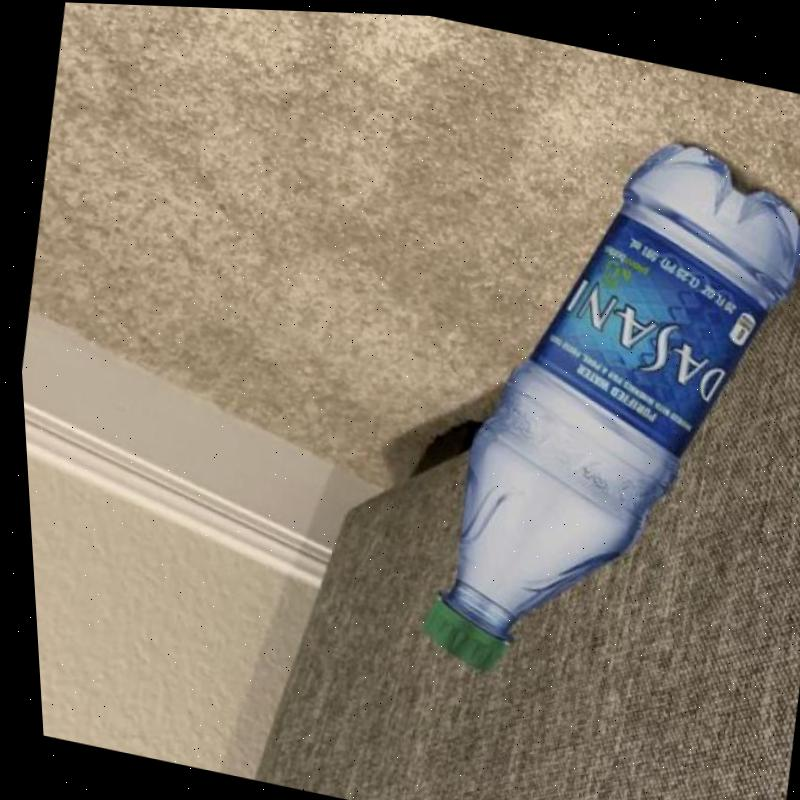botella: (382, 85, 800, 726)
